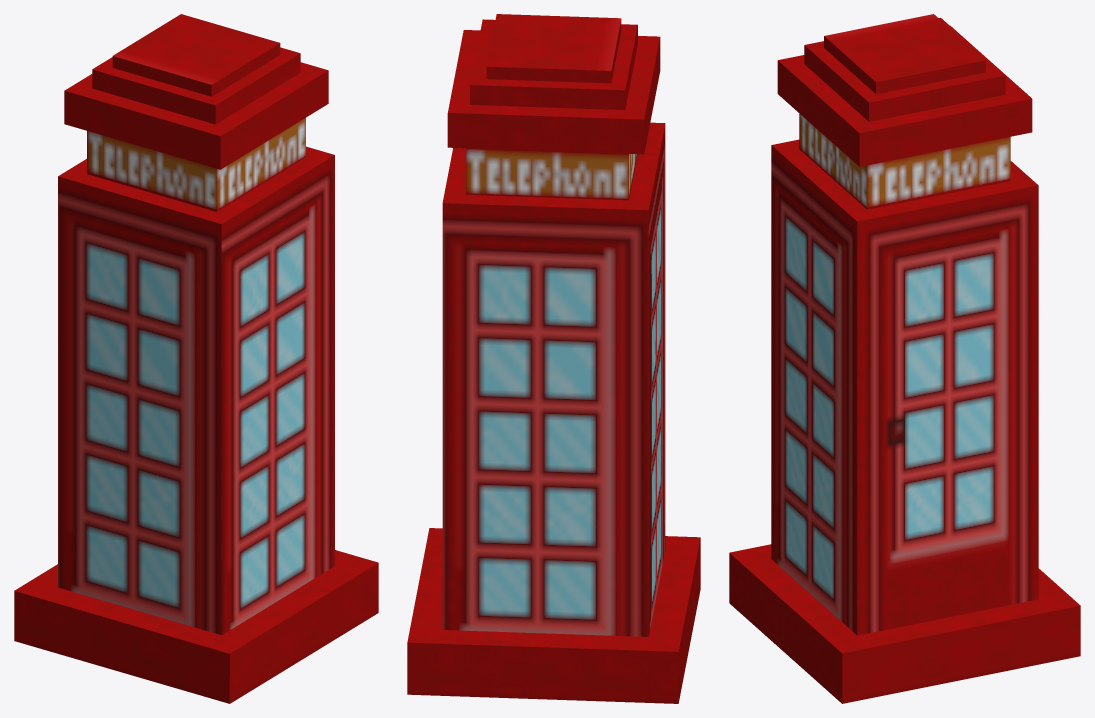
File: BGN_TELEPHONE BOOTH.fbx
3 renders of one model, left to right at view 1: azimuth 30°, elevation 25°; view 2: azimuth 150°, elevation 25°; view 3: azimuth 270°, elevation 25°, orthographic. The views are drawn at different scales.
Visible parts, largest first — view 1: BGN_TELEPHONE_BOOTH; view 2: BGN_TELEPHONE_BOOTH; view 3: BGN_TELEPHONE_BOOTH.
Boxes of the visible parts, left/top/right/bottom form: BGN_TELEPHONE_BOOTH: left=14, top=14, right=378, bottom=703; BGN_TELEPHONE_BOOTH: left=407, top=14, right=700, bottom=703; BGN_TELEPHONE_BOOTH: left=729, top=14, right=1080, bottom=703.
Bounding box in the file's own units: 160 × 292 × 160.
